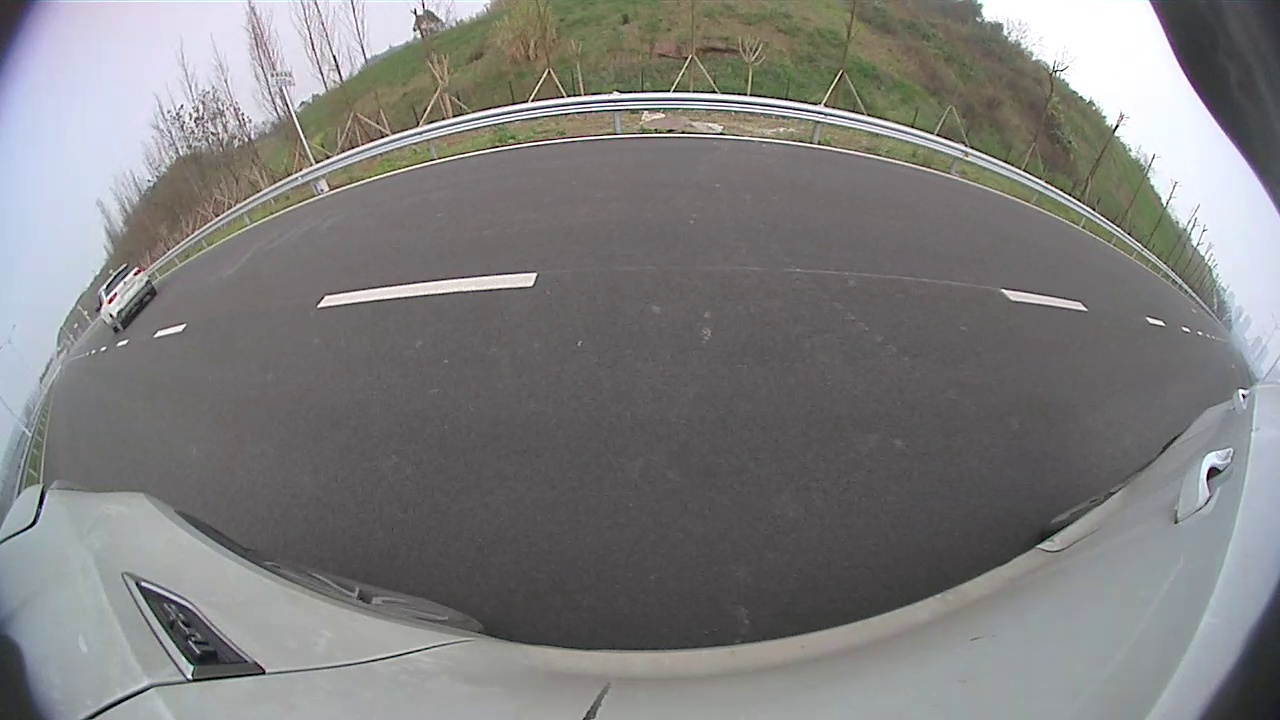car: (694, 149, 769, 199)
front: (696, 174, 704, 191)
rear: (710, 176, 721, 195)
